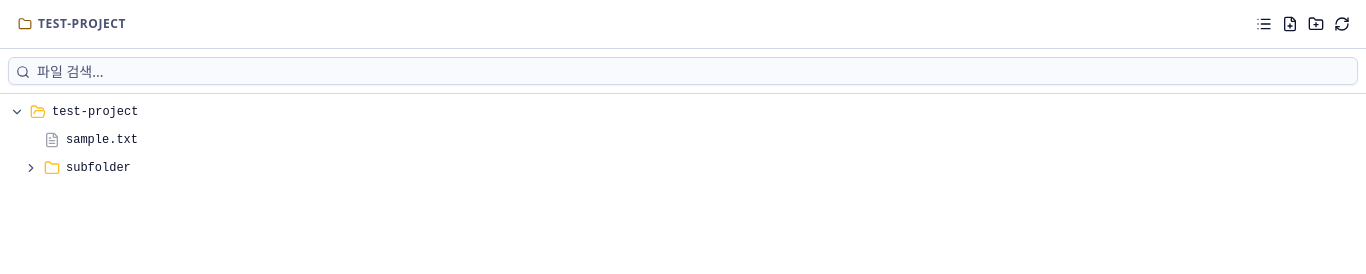
Test: FileTree Context Menus › closes context menu when Escape key is pressed
The image size is (1366, 274).
Right-click the text "sample.txt": (102, 140) left=66, top=132, right=138, bottom=148
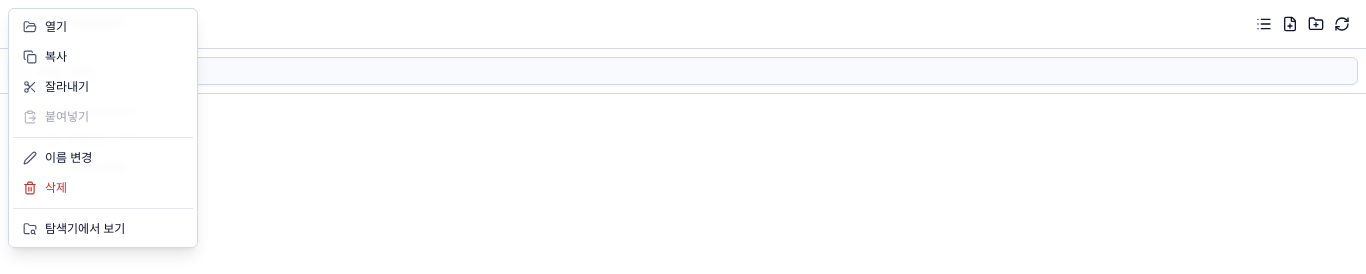
Now the button "탐색기에서 보기" is shown, box left=13, top=215, right=193, bottom=243
Press Escape
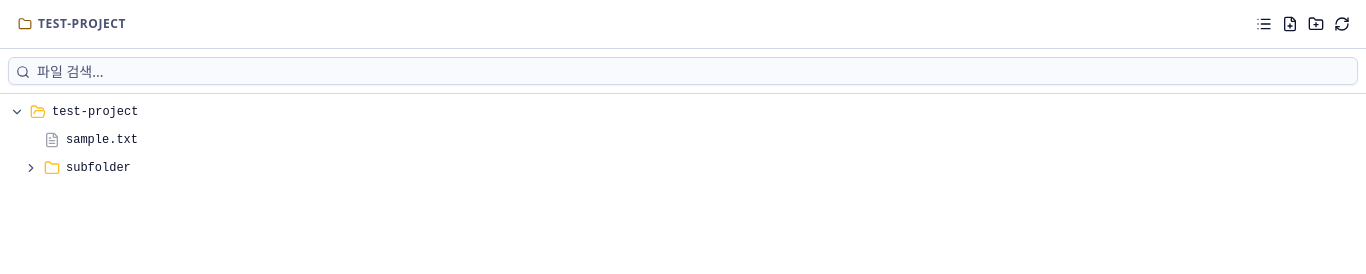
Now the button "탐색기에서 보기" is gone
